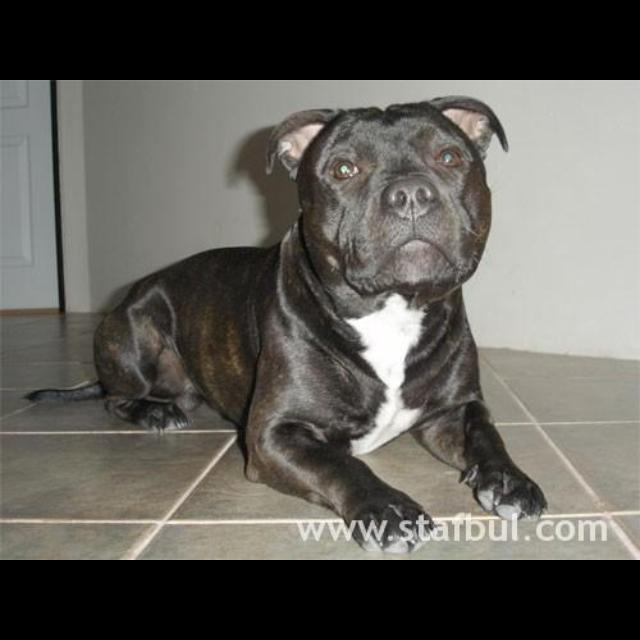staffford: (22, 94, 549, 554)
